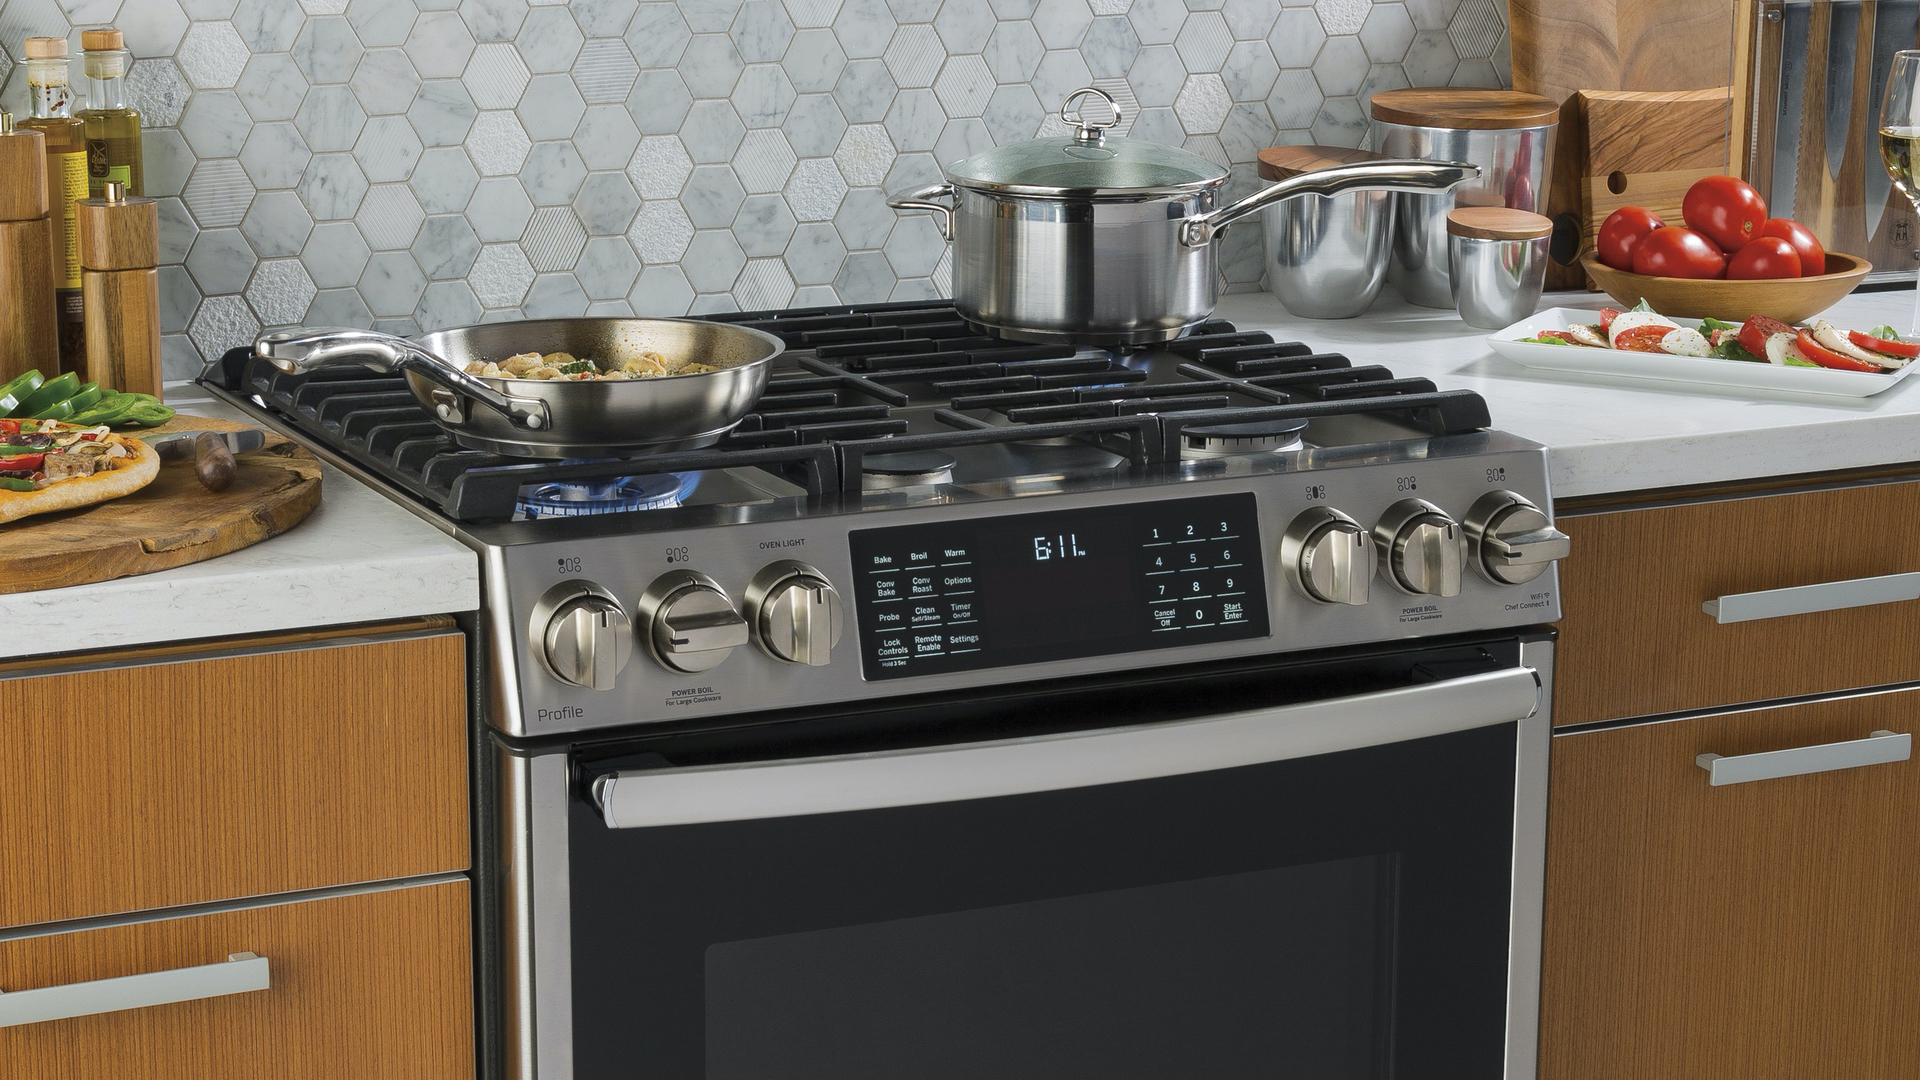stove: (231, 291, 1551, 1042)
